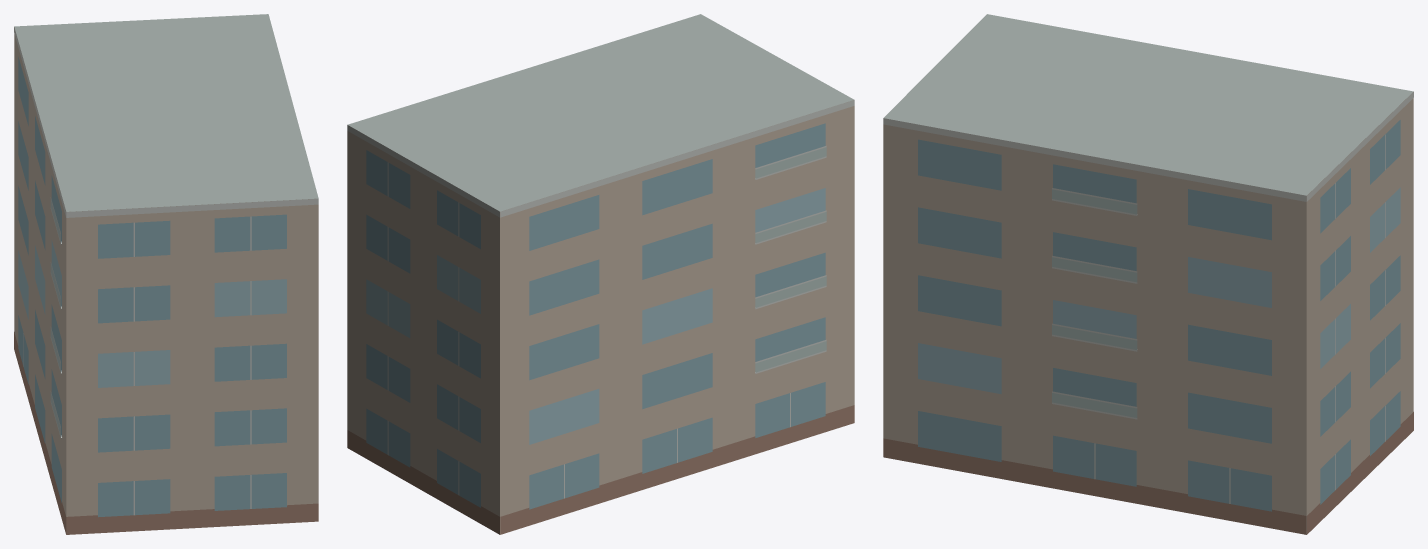
File: survey-upis-32531528.glb
3 renders of one model, left to right at view 1: azimuth 30°, elevation 25°; view 2: azimuth 150°, elevation 25°; view 3: azimuth 270°, elevation 25°, orthographic. The views are drawn at different scales.
Visible parts, largest first — view 1: survey-upis-32531528.tmp; view 2: survey-upis-32531528.tmp; view 3: survey-upis-32531528.tmp.
Boxes of the visible parts, x1,y1,x2,y2 form: survey-upis-32531528.tmp: [14, 14, 318, 534]; survey-upis-32531528.tmp: [347, 14, 854, 534]; survey-upis-32531528.tmp: [883, 14, 1413, 534].
Bounding box in the file's own units: 15.06 × 13.1 × 18.58.
